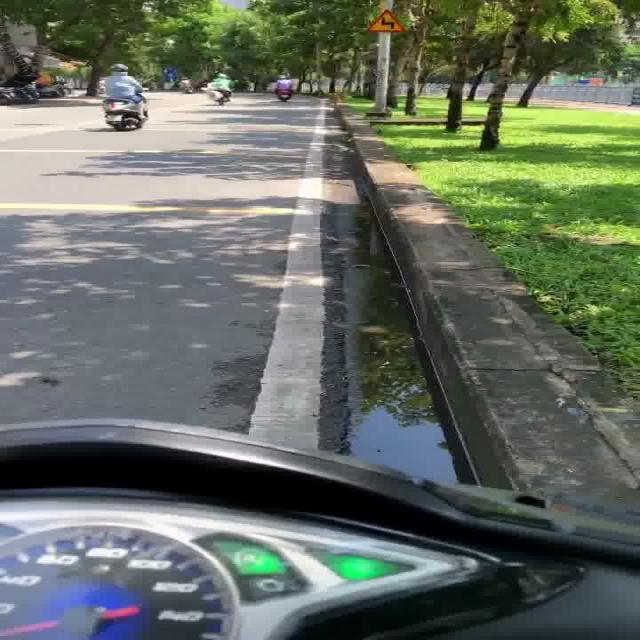Bien bao nhieu cho ngoat nguy hiem lien tiep: (364, 5, 412, 36)
